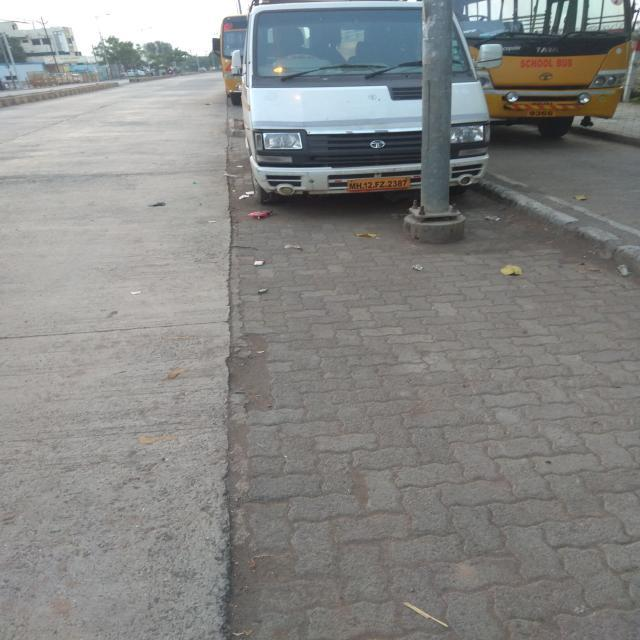Travller: (173, 5, 561, 226)
